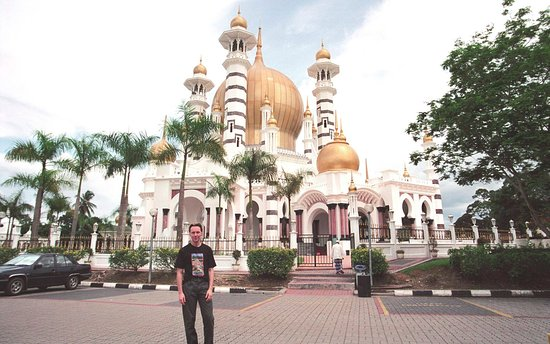Mosque: (136, 14, 359, 225)
